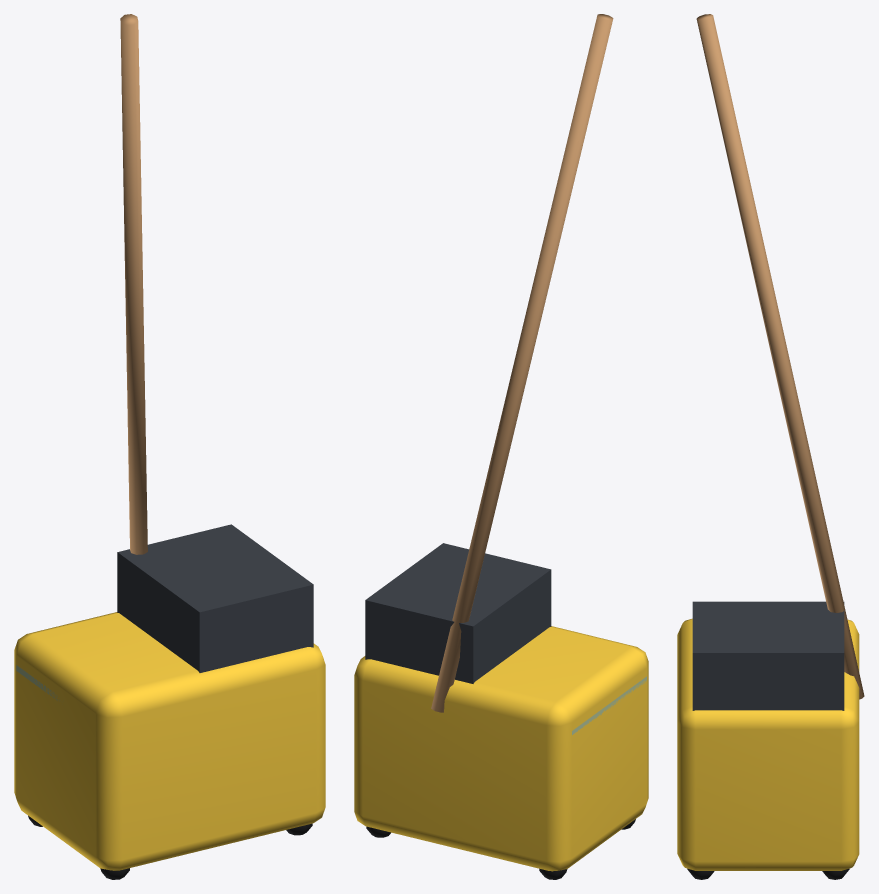
The model's file is MopBucket.fbx.
3 views of the same model, side by side, from view 1: azimuth 30°, elevation 25°; view 2: azimuth 150°, elevation 25°; view 3: azimuth 270°, elevation 25° (orthographic). The views are drawn at different scales.
Parts seen in each view (by area): view 1: MopBucketBody; view 2: MopBucketBody; view 3: MopBucketBody.
Boxes of the visible parts, x1,y1,x2,y2 form: MopBucketBody: (14,14,325,879); MopBucketBody: (354,14,648,879); MopBucketBody: (677,14,864,879).
Size of the model in its own units: 0.4 by 1.43 by 0.3084.
